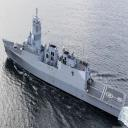Fragata: (1, 6, 127, 123)
